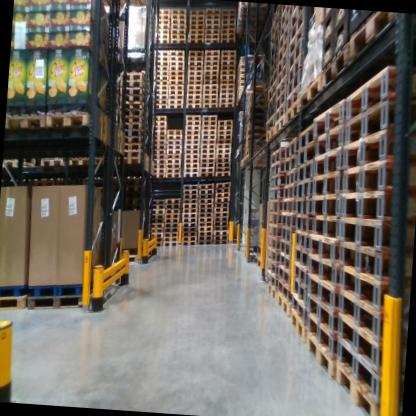pallet: (330, 335, 406, 412), (332, 310, 407, 380), (348, 61, 416, 129), (335, 287, 410, 348), (339, 122, 416, 176), (338, 232, 412, 286), (339, 176, 416, 226), (336, 265, 411, 316), (337, 208, 415, 255), (331, 357, 391, 416), (344, 102, 416, 150), (337, 154, 416, 197), (350, 12, 398, 65), (25, 290, 105, 316), (303, 330, 339, 383), (310, 95, 349, 139), (304, 309, 338, 359), (306, 288, 341, 336), (304, 269, 342, 313), (312, 116, 352, 157), (321, 41, 351, 94), (45, 100, 96, 130), (306, 232, 349, 267), (306, 253, 346, 290), (314, 141, 348, 180), (5, 109, 49, 135), (299, 70, 322, 117), (310, 215, 345, 241), (313, 167, 342, 198), (288, 22, 311, 56), (311, 194, 344, 217), (3, 151, 38, 172), (296, 136, 318, 168), (289, 314, 309, 348), (290, 274, 309, 308), (67, 152, 97, 173), (0, 291, 26, 315), (294, 154, 316, 182), (237, 54, 265, 76), (291, 257, 309, 291), (287, 52, 305, 86), (40, 151, 67, 173), (296, 123, 317, 151), (286, 291, 306, 320), (293, 174, 315, 200), (290, 12, 311, 39), (235, 87, 262, 108), (284, 100, 303, 128), (287, 40, 305, 69), (292, 243, 310, 271), (293, 193, 313, 217), (286, 84, 301, 115), (275, 70, 290, 101), (285, 70, 301, 99), (277, 24, 293, 53), (274, 84, 290, 113), (293, 210, 312, 234), (268, 156, 287, 180), (120, 69, 150, 84), (119, 84, 151, 98), (294, 226, 311, 252), (151, 12, 170, 35), (118, 100, 149, 114), (266, 11, 281, 39), (267, 181, 286, 203), (117, 107, 149, 120), (120, 77, 146, 93), (276, 266, 294, 289), (281, 137, 299, 160), (269, 143, 287, 165), (118, 250, 140, 268), (282, 151, 299, 174), (264, 230, 281, 253), (276, 59, 289, 89), (275, 98, 290, 124), (267, 243, 281, 270), (274, 114, 289, 139), (266, 266, 280, 292), (275, 291, 290, 315), (119, 94, 149, 106), (276, 281, 293, 302), (240, 159, 269, 171), (279, 238, 294, 261), (288, 5, 305, 25), (117, 155, 143, 168), (276, 49, 289, 75), (278, 251, 294, 272), (267, 208, 284, 227), (263, 125, 277, 148), (280, 212, 296, 232), (119, 114, 148, 125), (282, 180, 297, 201), (285, 163, 298, 187), (280, 10, 291, 38), (244, 153, 266, 167), (269, 174, 287, 190), (283, 195, 296, 217), (119, 122, 145, 133), (266, 256, 280, 276), (263, 282, 277, 302), (270, 53, 281, 78), (269, 198, 285, 215), (279, 39, 291, 61), (264, 114, 277, 134), (266, 222, 282, 238), (280, 7, 291, 30), (279, 226, 293, 244), (119, 142, 143, 152), (122, 129, 146, 139), (247, 107, 267, 119), (118, 152, 143, 161), (269, 36, 280, 56), (247, 94, 267, 105), (268, 69, 280, 87), (245, 114, 264, 125), (253, 254, 265, 271), (219, 61, 236, 73), (121, 136, 143, 145), (267, 92, 278, 110), (243, 141, 261, 152), (266, 103, 276, 122), (154, 5, 173, 15), (246, 101, 267, 110), (200, 103, 218, 113), (268, 81, 277, 100), (151, 47, 170, 56), (212, 221, 229, 231), (244, 134, 261, 144), (219, 74, 236, 84), (271, 47, 279, 68), (272, 22, 280, 43), (205, 7, 223, 16), (181, 212, 197, 222), (217, 119, 233, 129), (150, 113, 166, 123), (188, 21, 204, 31), (190, 7, 206, 17), (197, 218, 214, 227), (153, 17, 170, 26), (181, 194, 197, 203), (215, 196, 231, 205), (202, 78, 220, 86), (166, 148, 182, 157), (166, 128, 184, 136), (186, 93, 202, 102), (151, 216, 165, 226), (151, 196, 165, 206), (166, 172, 180, 182), (149, 203, 166, 211), (182, 221, 199, 229), (180, 199, 197, 207), (220, 33, 237, 41), (205, 12, 222, 20), (204, 27, 221, 35), (165, 153, 182, 161), (167, 83, 184, 91), (170, 33, 187, 41), (169, 40, 186, 48), (221, 16, 236, 25), (205, 46, 220, 55), (216, 147, 231, 156), (236, 64, 246, 77), (182, 189, 198, 197), (183, 184, 199, 192), (213, 229, 229, 237), (214, 202, 230, 210), (205, 17, 221, 25), (166, 142, 182, 150), (168, 103, 184, 111), (187, 59, 203, 67), (199, 182, 213, 191), (246, 122, 260, 131), (235, 77, 244, 91), (155, 33, 169, 42), (151, 221, 163, 231), (164, 212, 179, 220), (247, 127, 262, 135), (220, 23, 235, 31), (204, 38, 219, 46), (217, 134, 232, 142), (215, 165, 230, 173), (153, 102, 168, 110), (168, 93, 183, 101), (164, 197, 181, 204), (162, 226, 179, 233), (162, 231, 179, 238), (214, 193, 231, 200), (205, 22, 222, 29), (202, 69, 219, 76), (198, 172, 215, 179), (200, 139, 217, 146), (168, 74, 185, 81), (189, 13, 206, 20), (198, 188, 214, 195), (213, 240, 229, 247), (214, 212, 230, 219), (215, 188, 231, 195), (220, 38, 236, 45), (222, 9, 236, 17), (205, 54, 219, 62), (202, 98, 218, 105), (218, 103, 234, 110), (217, 128, 233, 135), (216, 171, 230, 179), (199, 166, 215, 173), (202, 125, 216, 133), (185, 124, 201, 131), (185, 143, 201, 150), (166, 157, 182, 164), (166, 139, 182, 146), (167, 90, 183, 97), (186, 103, 202, 110), (161, 237, 179, 243), (236, 71, 245, 83), (165, 202, 180, 209), (164, 206, 179, 213), (183, 204, 198, 211), (199, 192, 214, 199), (199, 198, 214, 205), (199, 201, 214, 208), (198, 215, 213, 222), (203, 65, 218, 72), (220, 84, 235, 91), (216, 153, 231, 160), (200, 158, 215, 165), (200, 144, 215, 151), (201, 135, 216, 142), (202, 121, 217, 128), (169, 59, 184, 66), (186, 98, 201, 105), (187, 84, 202, 91), (189, 49, 204, 56), (188, 32, 203, 39), (162, 242, 179, 248), (202, 89, 219, 95), (219, 51, 236, 57), (215, 157, 232, 163), (185, 115, 202, 121), (167, 65, 184, 71), (170, 9, 187, 15), (170, 14, 187, 20), (153, 241, 163, 251), (150, 227, 164, 234), (219, 124, 233, 131), (202, 114, 216, 121), (154, 98, 168, 105), (154, 85, 168, 92), (155, 75, 169, 82), (155, 65, 169, 72), (164, 217, 180, 223), (181, 240, 197, 246), (182, 219, 198, 225), (198, 210, 214, 216), (197, 226, 213, 232), (198, 230, 214, 236), (197, 236, 213, 242), (197, 240, 213, 246), (215, 183, 231, 189), (236, 85, 244, 97), (220, 29, 236, 35), (203, 84, 219, 90), (202, 94, 218, 100), (219, 94, 235, 100), (215, 162, 231, 168), (200, 163, 216, 169), (200, 153, 216, 159), (183, 157, 199, 163), (187, 65, 203, 71), (189, 38, 205, 44), (190, 19, 206, 25), (183, 208, 196, 215), (153, 119, 166, 126), (153, 158, 166, 165), (153, 237, 163, 246), (182, 227, 197, 233), (198, 207, 213, 213), (212, 217, 227, 223), (214, 208, 229, 214), (204, 61, 219, 67), (220, 88, 235, 94), (217, 138, 232, 144), (217, 143, 232, 149), (200, 148, 215, 154), (183, 172, 198, 178), (153, 95, 168, 101), (167, 70, 185, 75), (187, 90, 202, 96), (188, 29, 203, 35), (168, 50, 185, 55), (167, 99, 184, 104), (222, 15, 236, 21), (221, 55, 235, 61), (167, 167, 181, 173), (154, 126, 166, 133), (154, 144, 166, 151), (155, 60, 169, 66), (156, 55, 170, 61), (188, 79, 202, 85), (188, 74, 202, 80), (172, 19, 186, 25), (171, 28, 185, 34), (163, 222, 179, 227), (181, 236, 197, 241), (181, 232, 197, 237), (204, 34, 220, 39), (219, 99, 235, 104), (219, 80, 235, 85), (219, 71, 235, 76), (200, 130, 216, 135), (185, 120, 201, 125), (185, 135, 201, 140), (185, 139, 201, 144), (165, 163, 181, 168), (166, 136, 182, 141), (184, 167, 197, 173), (154, 134, 167, 140), (152, 164, 165, 170), (152, 174, 165, 180), (184, 153, 199, 158), (184, 163, 199, 168), (154, 91, 169, 96), (154, 71, 169, 76), (170, 55, 185, 60), (187, 70, 202, 75), (188, 55, 203, 60), (171, 24, 186, 29), (154, 25, 169, 30), (245, 149, 253, 158), (214, 236, 228, 241), (152, 169, 166, 174), (157, 39, 168, 45), (150, 233, 163, 238), (152, 210, 165, 215), (154, 140, 167, 145), (153, 154, 166, 159), (155, 81, 168, 86), (202, 75, 218, 79), (168, 80, 184, 84), (185, 149, 200, 153), (154, 150, 166, 155), (237, 144, 244, 152), (185, 130, 199, 134), (152, 214, 165, 218), (154, 132, 166, 136), (235, 149, 240, 157)
